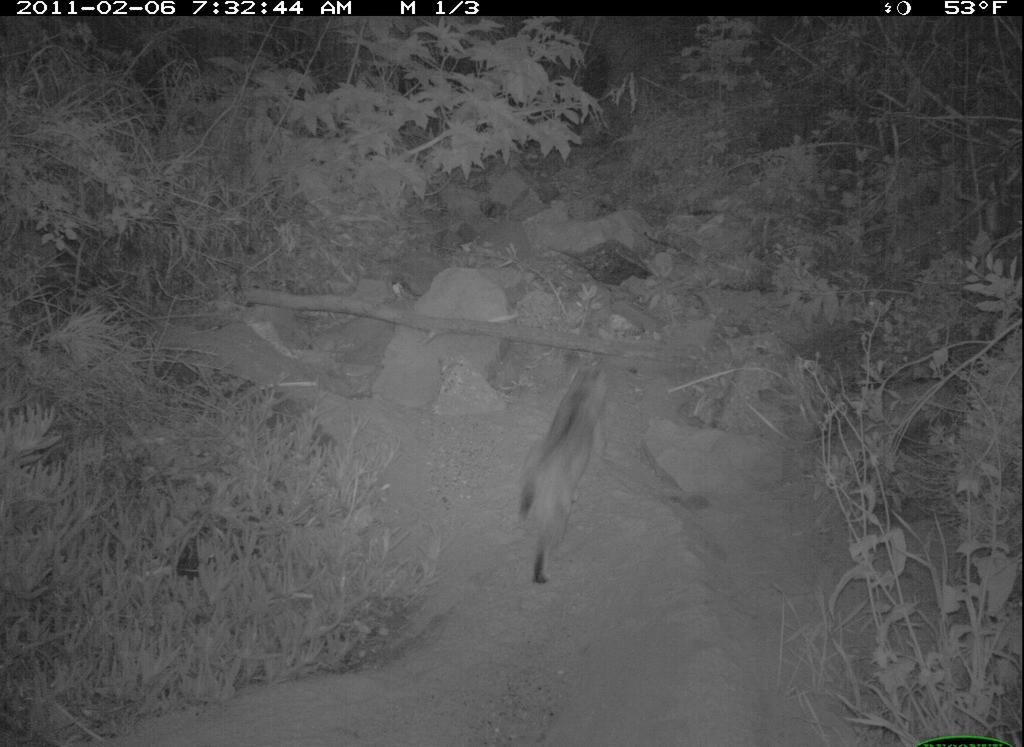bobcat: (513, 337, 617, 587)
